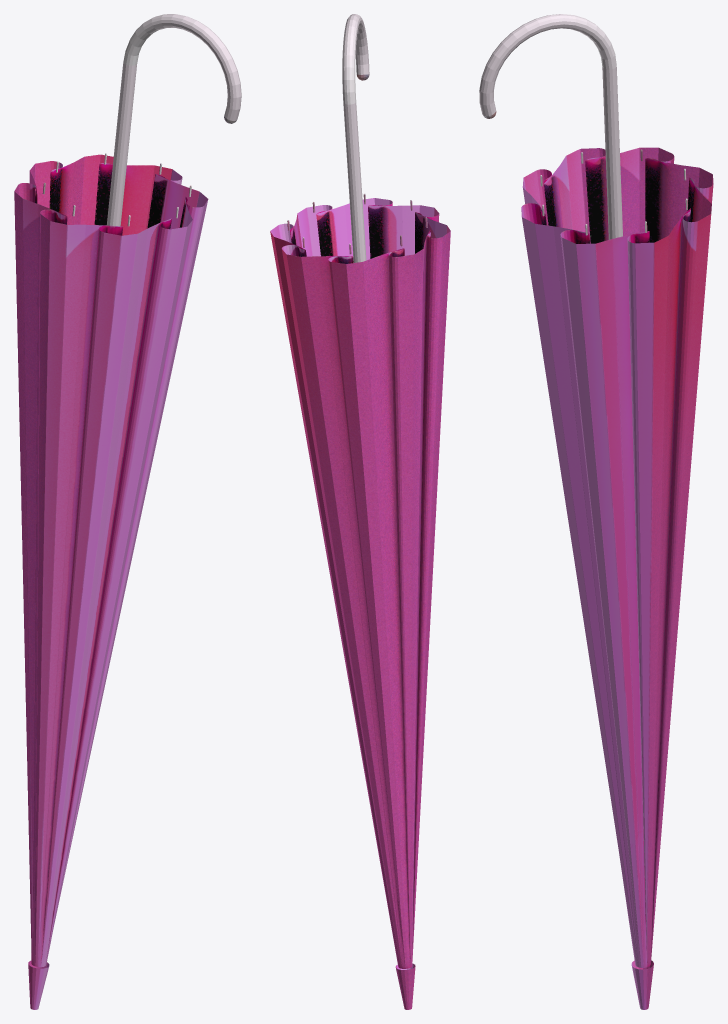
Rendered from paraguas_1.fbx.
The picture shows the model from 3 angles, left to right: view 1: azimuth 30°, elevation 25°; view 2: azimuth 150°, elevation 25°; view 3: azimuth 270°, elevation 25°; orthographic projection. The views are drawn at different scales.
Parts seen in each view (by area): view 1: paraguas; view 2: paraguas; view 3: paraguas.
Part boxes in pixels (x1=…): paraguas: x1=14, y1=14, x2=241, y2=1009; paraguas: x1=270, y1=14, x2=450, y2=1009; paraguas: x1=479, y1=14, x2=713, y2=1009.
Size of the model in its own units: 0.1306 by 0.786 by 0.1594.
1 material, 1 textured.
